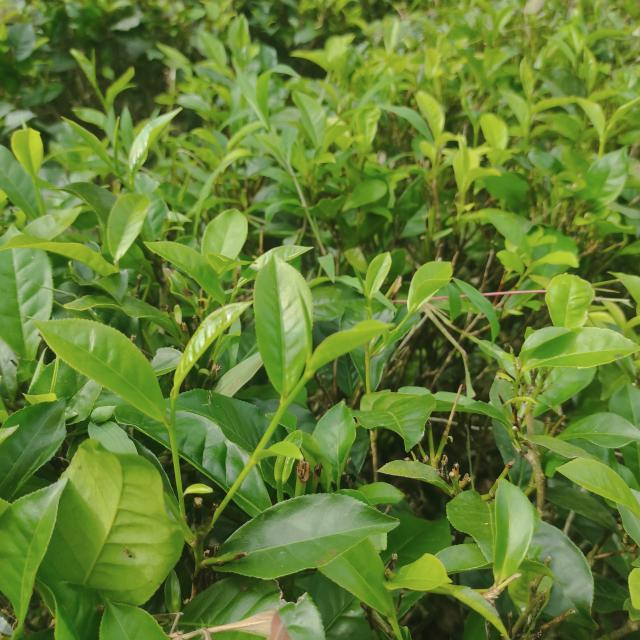unopened_leaf: (289, 273, 323, 367), (108, 113, 128, 179), (348, 258, 372, 299), (45, 354, 64, 403)
